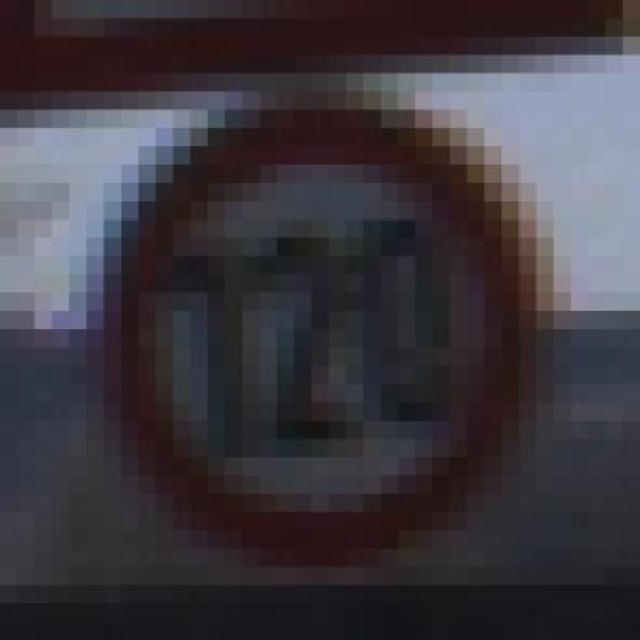forb_speed_over_120: (123, 107, 525, 550)
